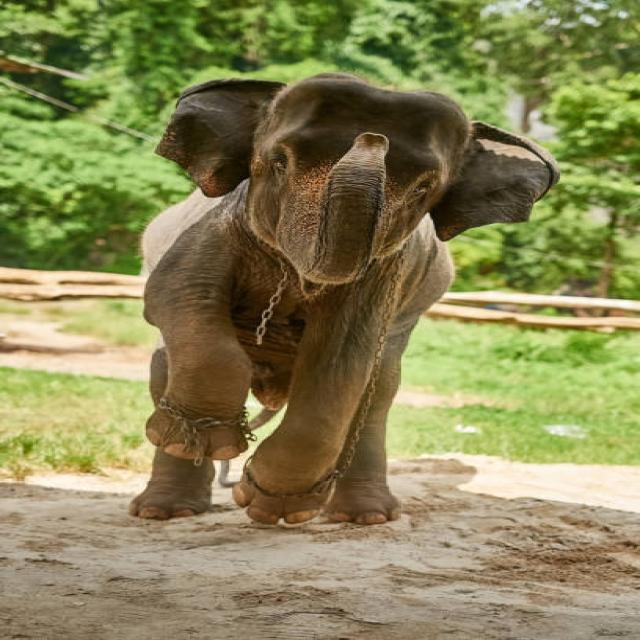Elephant: (107, 55, 572, 557)
